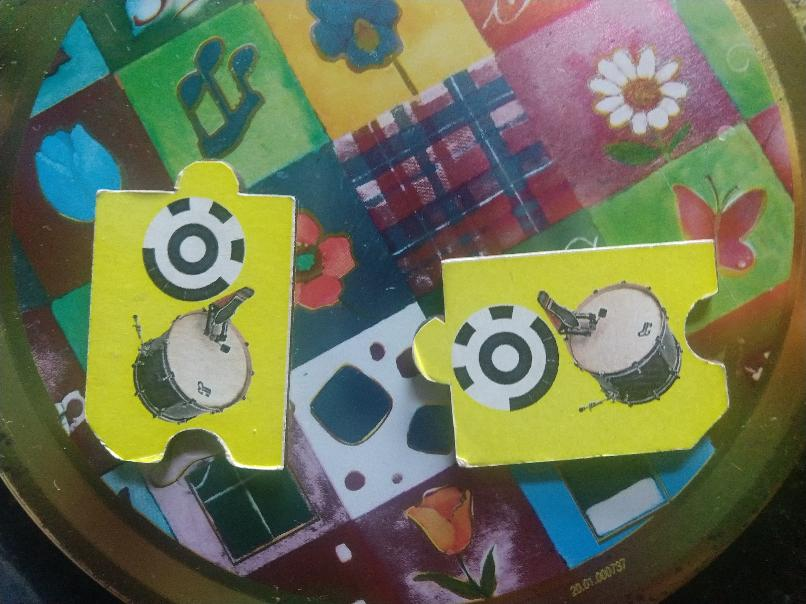bumbo: (410, 239, 732, 470), (83, 159, 296, 474)
